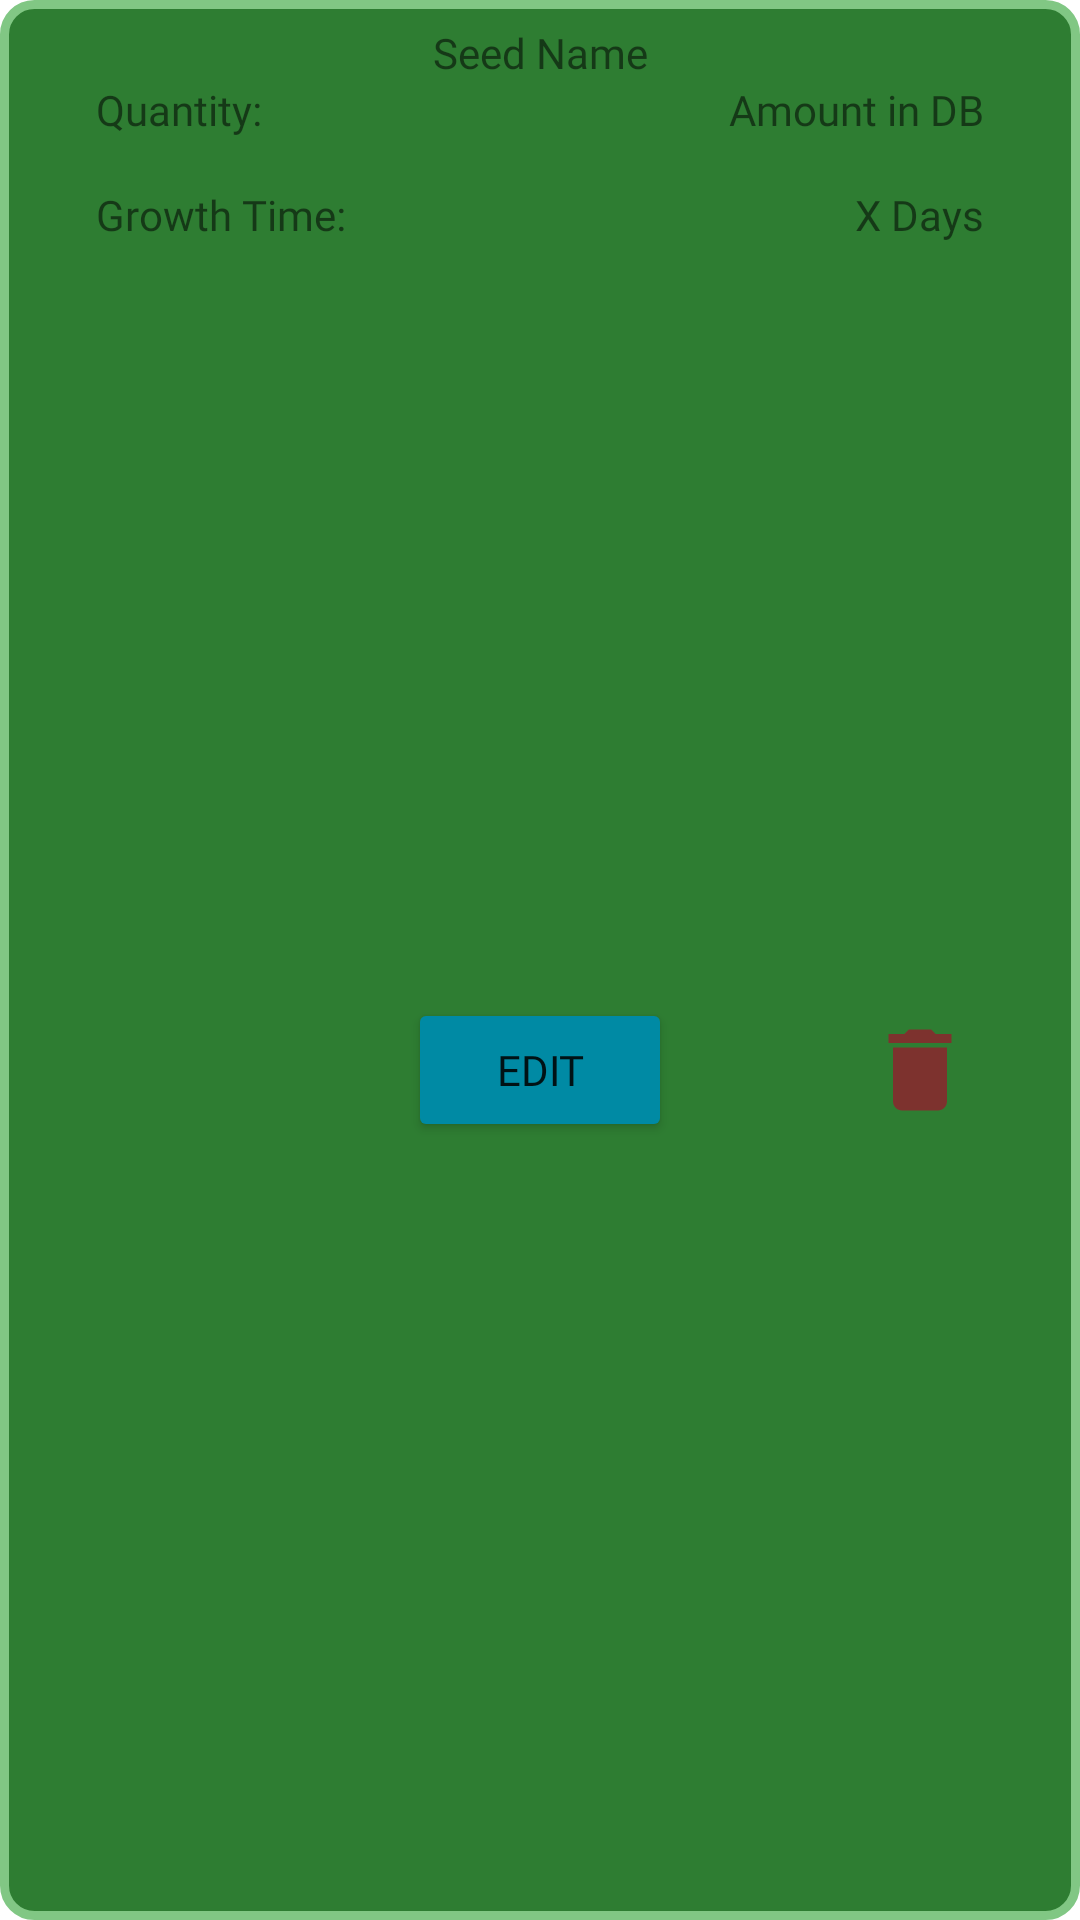

Named icons in this screenshot (1080px×1920px) and their bounding boxes, (x1, y1, x2, y2):
delete: (888, 1029, 952, 1111)
